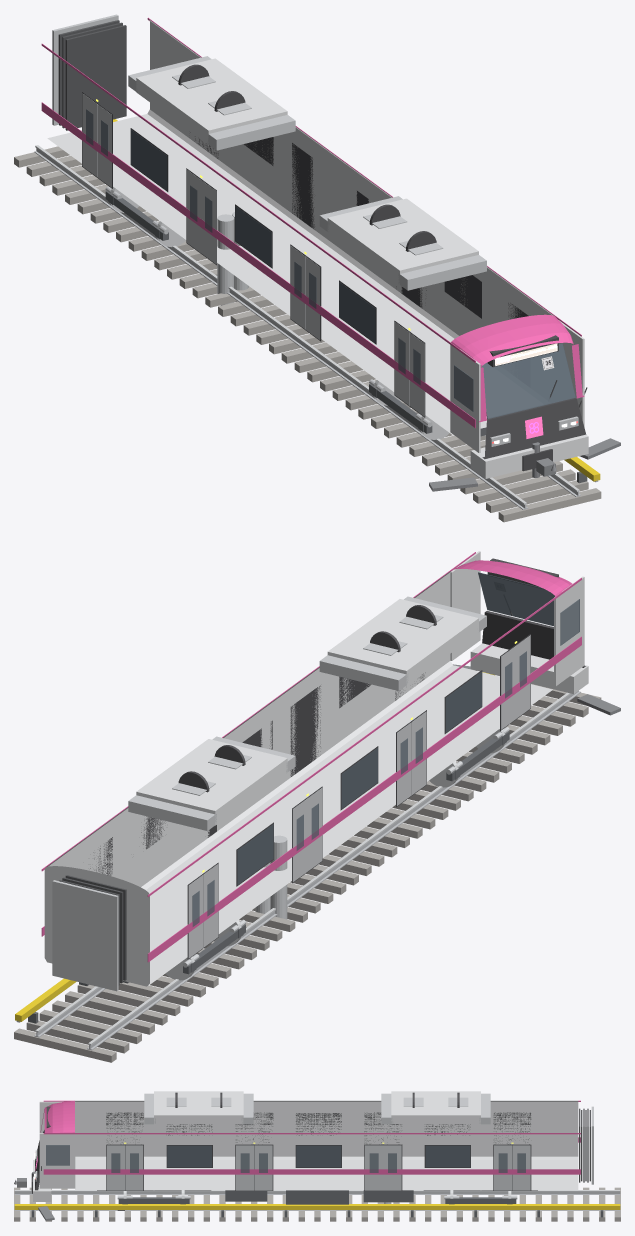
Rendered from metro_pink.glb.
The picture shows the model from 3 angles, top to bottom: view 1: azimuth 30°, elevation 25°; view 2: azimuth 150°, elevation 25°; view 3: azimuth 270°, elevation 25°; orthographic projection. The views are drawn at different scales.
Visible parts, largest first — view 1: geometry_0, geometry_93, geometry_100, geometry_174, geometry_75, geometry_1, geometry_69, geometry_70, geometry_65, geometry_71, geometry_101, geometry_181 (+27 smaller); view 2: geometry_0, geometry_180, geometry_93, geometry_100, geometry_1, geometry_75, geometry_65, geometry_70, geometry_35, geometry_71, geometry_66, geometry_102 (+29 smaller); view 3: geometry_0, geometry_226, geometry_2, geometry_93, geometry_100, geometry_66, geometry_182, geometry_55, geometry_59, geometry_63, geometry_4, geometry_60 (+36 smaller).
Boxes of the visible parts, x1=… form: geometry_0: x1=47, y1=19, x2=553, y2=435; geometry_93: x1=136, y1=58, x2=287, y2=145; geometry_100: x1=327, y1=198, x2=478, y2=284; geometry_174: x1=65, y1=25, x2=126, y2=130; geometry_75: x1=481, y1=343, x2=575, y2=418; geometry_1: x1=41, y1=102, x2=475, y2=428; geometry_69: x1=451, y1=314, x2=584, y2=422; geometry_70: x1=482, y1=398, x2=586, y2=459; geometry_65: x1=450, y1=345, x2=480, y2=452; geometry_71: x1=470, y1=434, x2=588, y2=478; geometry_101: x1=398, y1=255, x2=486, y2=290; geometry_181: x1=34, y1=151, x2=528, y2=509; geometry_0: x1=44, y1=570, x2=552, y2=986; geometry_180: x1=52, y1=880, x2=118, y2=991; geometry_93: x1=136, y1=739, x2=287, y2=825; geometry_100: x1=327, y1=599, x2=478, y2=685; geometry_1: x1=147, y1=636, x2=581, y2=962; geometry_75: x1=478, y1=572, x2=554, y2=626; geometry_65: x1=554, y1=576, x2=584, y2=686; geometry_70: x1=482, y1=611, x2=585, y2=667; geometry_35: x1=290, y1=685, x2=320, y2=776; geometry_71: x1=470, y1=643, x2=588, y2=694; geometry_66: x1=450, y1=551, x2=480, y2=660; geometry_102: x1=319, y1=655, x2=408, y2=690; geometry_0: x1=75, y1=1100, x2=578, y2=1190; geometry_226: x1=14, y1=1204, x2=620, y2=1209; geometry_2: x1=43, y1=1169, x2=580, y2=1174; geometry_93: x1=391, y1=1091, x2=480, y2=1124; geometry_100: x1=154, y1=1091, x2=243, y2=1124; geometry_66: x1=39, y1=1133, x2=75, y2=1188; geometry_182: x1=14, y1=1191, x2=620, y2=1193; geometry_55: x1=424, y1=1145, x2=470, y2=1167; geometry_59: x1=295, y1=1145, x2=341, y2=1167; geometry_63: x1=166, y1=1145, x2=212, y2=1167; geometry_4: x1=43, y1=1133, x2=580, y2=1134; geometry_60: x1=296, y1=1145, x2=341, y2=1167.
Size of the model in its own units: 5.11 by 4.88 by 23.04.
Materials: 19 (3 with a texture image).
